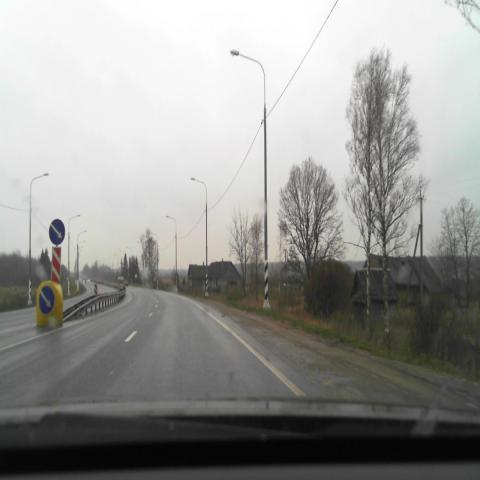4_2_1: (38, 286, 54, 314)
